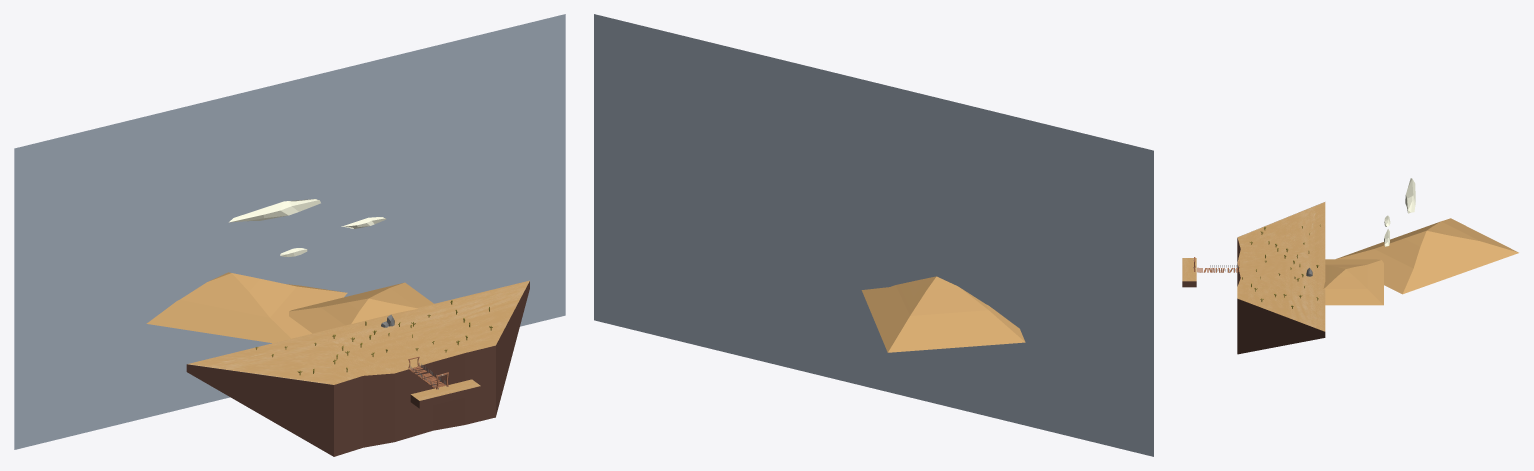
Rendered from DesertoPonteCurta.fbx.
3 views of the same model, side by side, from view 1: azimuth 30°, elevation 25°; view 2: azimuth 150°, elevation 25°; view 3: azimuth 270°, elevation 25° (orthographic). The views are drawn at different scales.
Visible parts, largest first — view 1: Cube.003; view 2: Cube.003; view 3: Cube.003.
Boxes of the visible parts, x1,y1,x2,y2 form: Cube.003: [14, 14, 565, 456]; Cube.003: [594, 14, 1153, 456]; Cube.003: [1182, 178, 1518, 354].
Size of the model in its own units: 14917 by 7799 by 10178.
